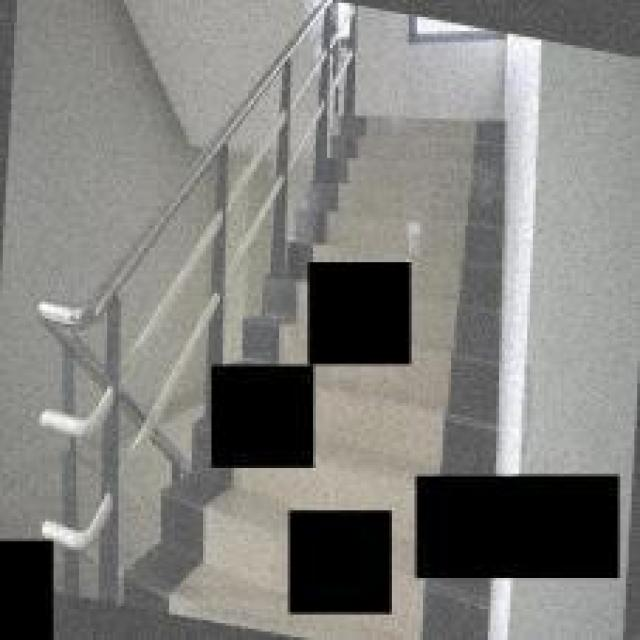upstair: (331, 108, 511, 249)
